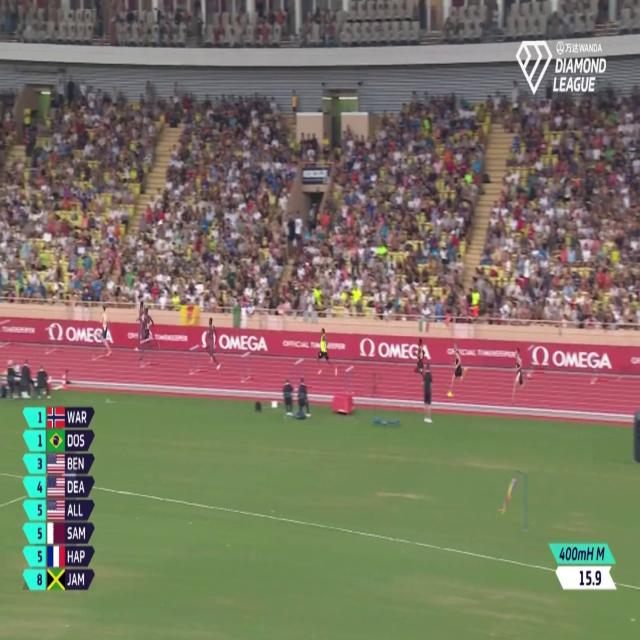athlete: (316, 323, 339, 389), (202, 313, 224, 373), (447, 343, 467, 406), (412, 325, 429, 389), (512, 339, 528, 405), (140, 305, 158, 359), (100, 306, 113, 366), (136, 297, 151, 347)
hurdle: (236, 354, 256, 396), (134, 334, 158, 368), (90, 324, 107, 365), (185, 338, 202, 378), (342, 360, 357, 404), (291, 353, 306, 389), (48, 317, 59, 363), (0, 314, 14, 350), (526, 340, 536, 383)
